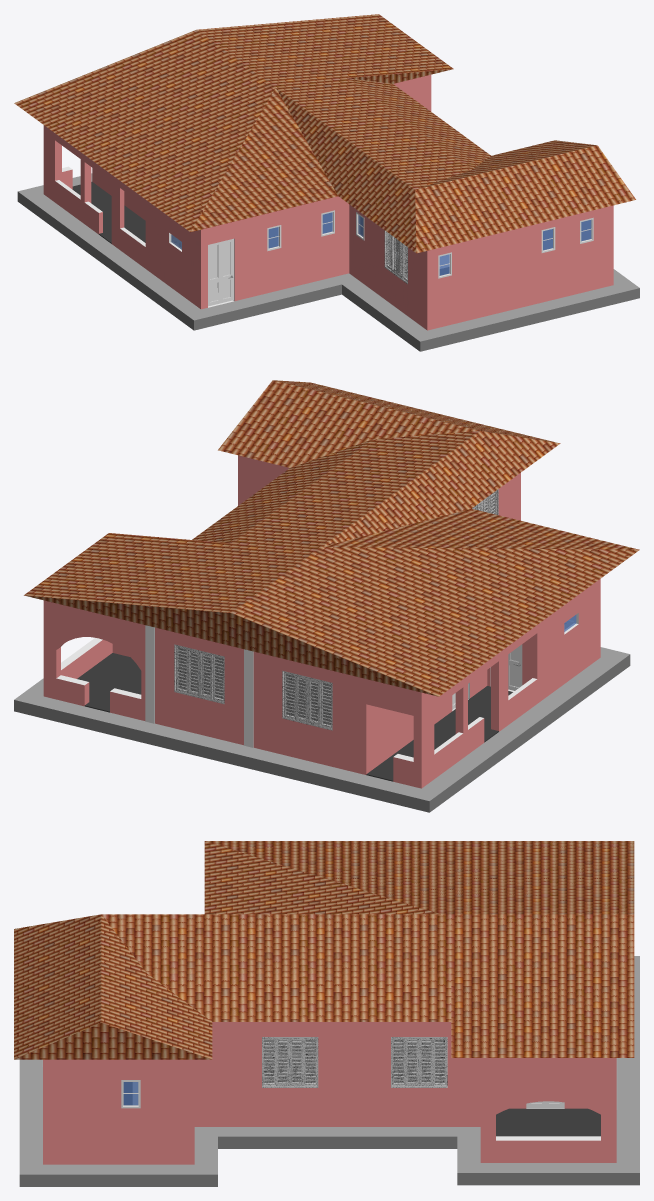
Rendered from Casa Rosa.dae.
The picture shows the model from 3 angles, top to bottom: view 1: azimuth 30°, elevation 25°; view 2: azimuth 150°, elevation 25°; view 3: azimuth 270°, elevation 25°; orthographic projection. The views are drawn at different scales.
Visible parts, largest first — view 1: group_0, SketchUp (×5), Componente_5, Componente; view 2: group_0, SketchUp (×7), Componente (×2); view 3: group_0, SketchUp (×5), Componente (×2).
Part boxes in pixels (box(x1,y1,x2,y2)): group_0: box(14, 14, 635, 253); SketchUp (×5): box(17, 74, 639, 351); Componente_5: box(208, 238, 233, 306); Componente: box(385, 230, 407, 282); group_0: box(24, 380, 639, 696); SketchUp (×7): box(14, 455, 630, 812); Componente (×2): box(175, 645, 331, 729); group_0: box(14, 841, 634, 1059); SketchUp (×5): box(19, 956, 639, 1186); Componente (×2): box(262, 1038, 446, 1086).
Size of the model in its own units: 532 by 634 by 178.
